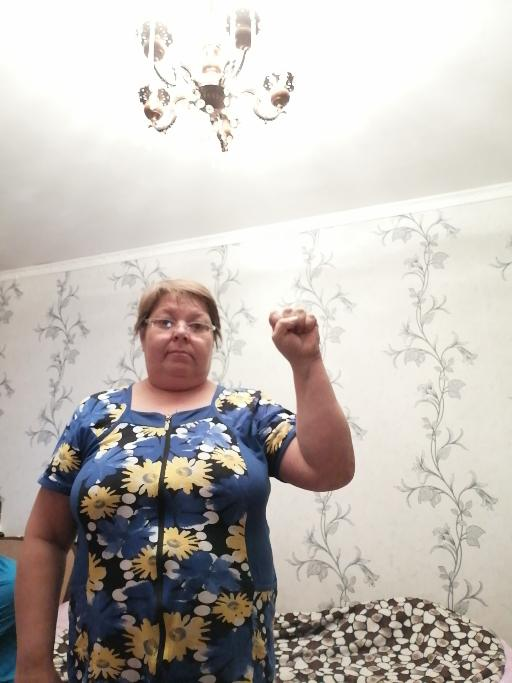fist: (266, 305, 323, 363)
